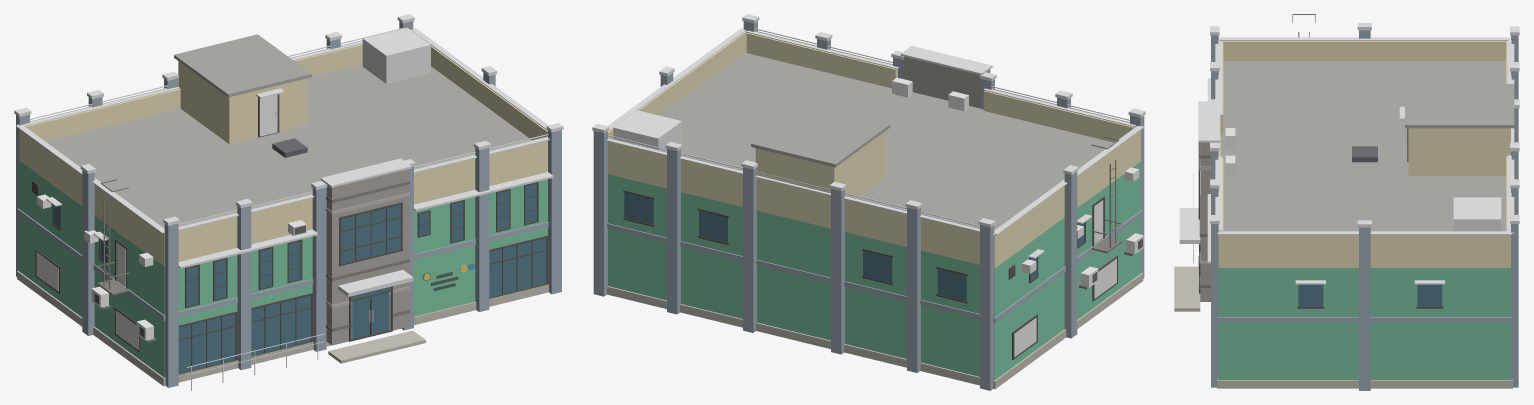
Rendered from rnd_building.glb.
3 renders of one model, left to right at view 1: azimuth 30°, elevation 25°; view 2: azimuth 150°, elevation 25°; view 3: azimuth 270°, elevation 25°, orthographic.
Visible parts, largest first — view 1: RND_Merged_RND_BalconyDeckConcrete, RND_Merged_RND_WallCream, RND_Merged_RND_WallMintGreen, RND_Merged_RND_BeamSlateBlue, RND_Merged_RND_GlassTinted, RND_Merged_RND_ParapetCap, RND_Merged_RND_BronzeFrame, RND_Tower_Body_Stone, RND_Merged_RND_PlinthGrey, RND_Merged_RND_MetalWhite, RND_Merged_RND_RailingSilver, RND_Merged_RND_StoneDark (+3 smaller); view 2: RND_Merged_RND_WallMintGreen, RND_Merged_RND_BalconyDeckConcrete, RND_Merged_RND_WallCream, RND_Merged_RND_BeamSlateBlue, RND_Merged_RND_ParapetCap, RND_Merged_RND_PlinthGrey, RND_Merged_RND_GlassTinted, RND_Merged_RND_MetalWhite, RND_Tower_Body_Stone, RND_Merged_RND_RailingSilver, RND_Merged_RND_BronzeFrame, RND_Merged_RND_SteelFireEscape; view 3: RND_Merged_RND_BalconyDeckConcrete, RND_Merged_RND_WallMintGreen, RND_Merged_RND_WallCream, RND_Merged_RND_ParapetCap, RND_Merged_RND_BeamSlateBlue, RND_Merged_RND_PlinthGrey, RND_Tower_Body_Stone, RND_Merged_RND_GlassTinted, RND_Merged_RND_BronzeFrame, RND_Merged_RND_MetalWhite, RND_Merged_RND_GrilleDark, RND_Merged_RND_RailingSilver.
Part boxes in pixels (left/top/right/bottom): RND_Merged_RND_BalconyDeckConcrete: left=46, top=34, right=531, bottom=228; RND_Merged_RND_WallCream: left=19, top=44, right=547, bottom=266; RND_Merged_RND_WallMintGreen: left=19, top=161, right=547, bottom=377; RND_Merged_RND_BeamSlateBlue: left=16, top=21, right=561, bottom=387; RND_Merged_RND_GlassTinted: left=53, top=183, right=546, bottom=373; RND_Merged_RND_ParapetCap: left=14, top=14, right=563, bottom=296; RND_Merged_RND_BronzeFrame: left=32, top=94, right=547, bottom=374; RND_Tower_Body_Stone: left=326, top=169, right=409, bottom=345; RND_Merged_RND_PlinthGrey: left=17, top=270, right=548, bottom=386; RND_Merged_RND_MetalWhite: left=36, top=95, right=306, bottom=349; RND_Merged_RND_RailingSilver: left=30, top=28, right=548, bottom=390; RND_Merged_RND_StoneDark: left=326, top=181, right=409, bottom=331; RND_Merged_RND_WallMintGreen: left=608, top=162, right=1140, bottom=380; RND_Merged_RND_BalconyDeckConcrete: left=659, top=51, right=1113, bottom=229; RND_Merged_RND_WallCream: left=608, top=31, right=1140, bottom=268; RND_Merged_RND_BeamSlateBlue: left=593, top=21, right=1144, bottom=390; RND_Merged_RND_ParapetCap: left=592, top=14, right=1145, bottom=258; RND_Merged_RND_PlinthGrey: left=607, top=272, right=1143, bottom=389; RND_Merged_RND_GlassTinted: left=624, top=192, right=1084, bottom=301; RND_Merged_RND_MetalWhite: left=892, top=77, right=1143, bottom=357; RND_Tower_Body_Stone: left=903, top=56, right=990, bottom=108; RND_Merged_RND_RailingSilver: left=607, top=28, right=1129, bottom=228; RND_Merged_RND_BronzeFrame: left=623, top=190, right=1117, bottom=359; RND_Merged_RND_SteelFireEscape: left=1079, top=136, right=1132, bottom=289; RND_Merged_RND_BalconyDeckConcrete: left=1220, top=61, right=1514, bottom=231; RND_Merged_RND_WallMintGreen: left=1218, top=268, right=1510, bottom=379; RND_Merged_RND_WallCream: left=1218, top=41, right=1510, bottom=267; RND_Merged_RND_ParapetCap: left=1179, top=23, right=1519, bottom=284; RND_Merged_RND_BeamSlateBlue: left=1211, top=30, right=1518, bottom=390; RND_Merged_RND_PlinthGrey: left=1174, top=266, right=1512, bottom=388; RND_Tower_Body_Stone: left=1200, top=142, right=1210, bottom=301; RND_Merged_RND_GlassTinted: left=1298, top=284, right=1442, bottom=306; RND_Merged_RND_BronzeFrame: left=1198, top=128, right=1443, bottom=308; RND_Merged_RND_MetalWhite: left=1225, top=128, right=1235, bottom=175; RND_Merged_RND_GrilleDark: left=1352, top=146, right=1377, bottom=162; RND_Merged_RND_RailingSilver: left=1193, top=40, right=1511, bottom=268.
Bounding box in the file's own units: 22.5 × 9.51 × 15.95.
